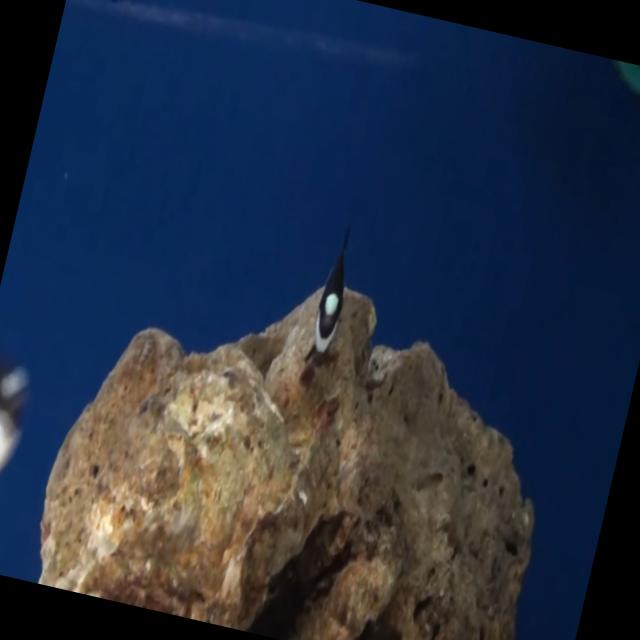ThreeStripedDamselfish: (305, 246, 344, 365)
